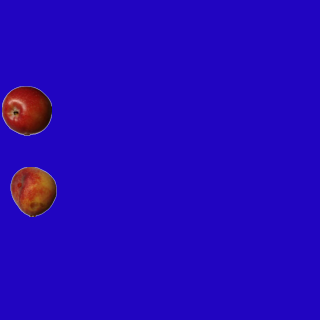Apple Braeburn: (1, 85, 51, 135)
Peach: (8, 166, 58, 216)
